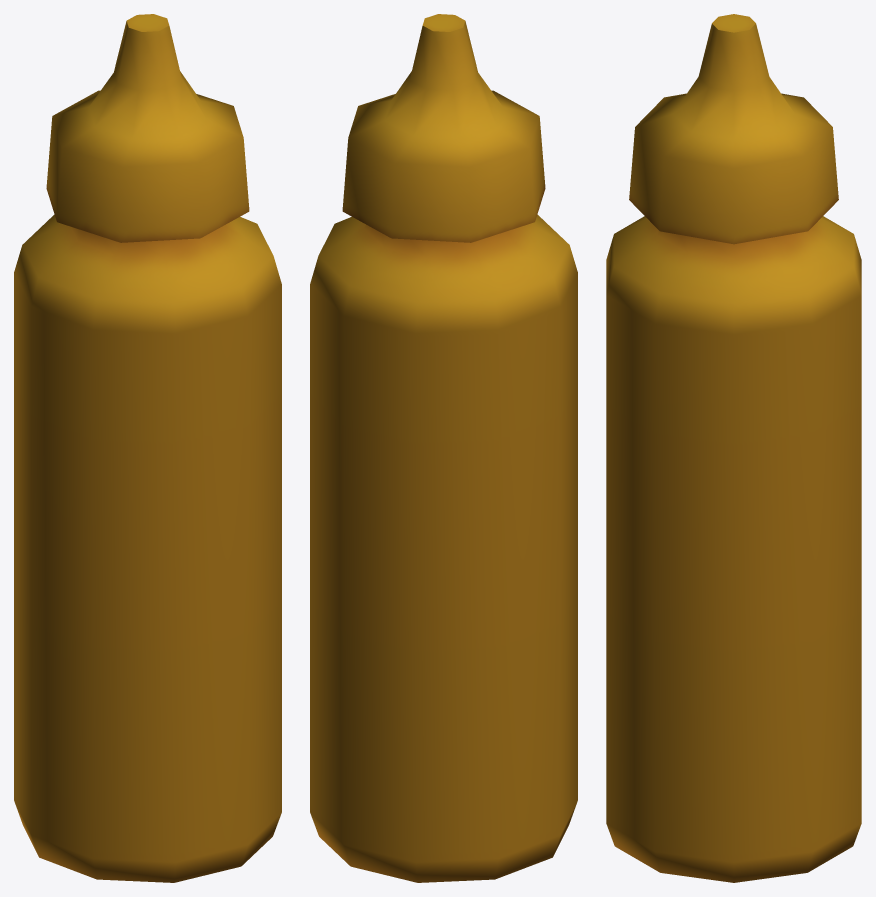
Rendered from mustard_01.fbx.
3 renders of one model, left to right at view 1: azimuth 30°, elevation 25°; view 2: azimuth 150°, elevation 25°; view 3: azimuth 270°, elevation 25°, orthographic.
Parts seen in each view (by area): view 1: mustard_01_ready; view 2: mustard_01_ready; view 3: mustard_01_ready.
Boxes of the visible parts, x1,y1,x2,y2 form: mustard_01_ready: (14, 14, 281, 882); mustard_01_ready: (310, 14, 577, 882); mustard_01_ready: (606, 14, 861, 882).
Size of the model in its own units: 12.89 by 43.13 by 12.26.
